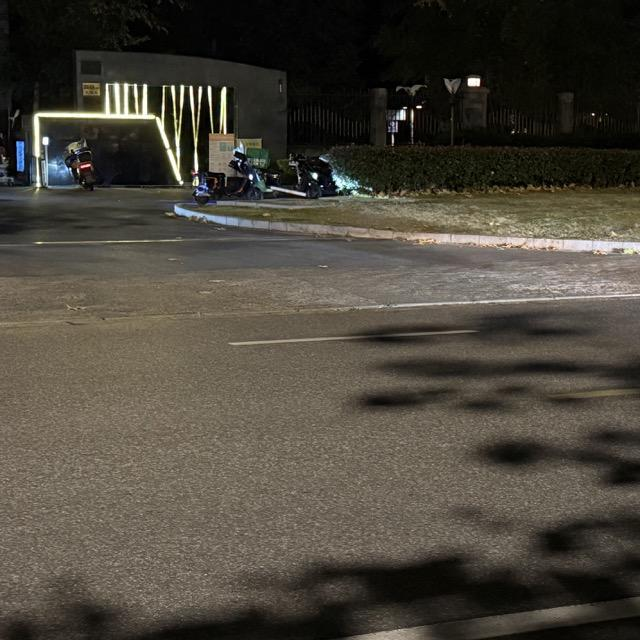curb: (173, 203, 639, 254)
